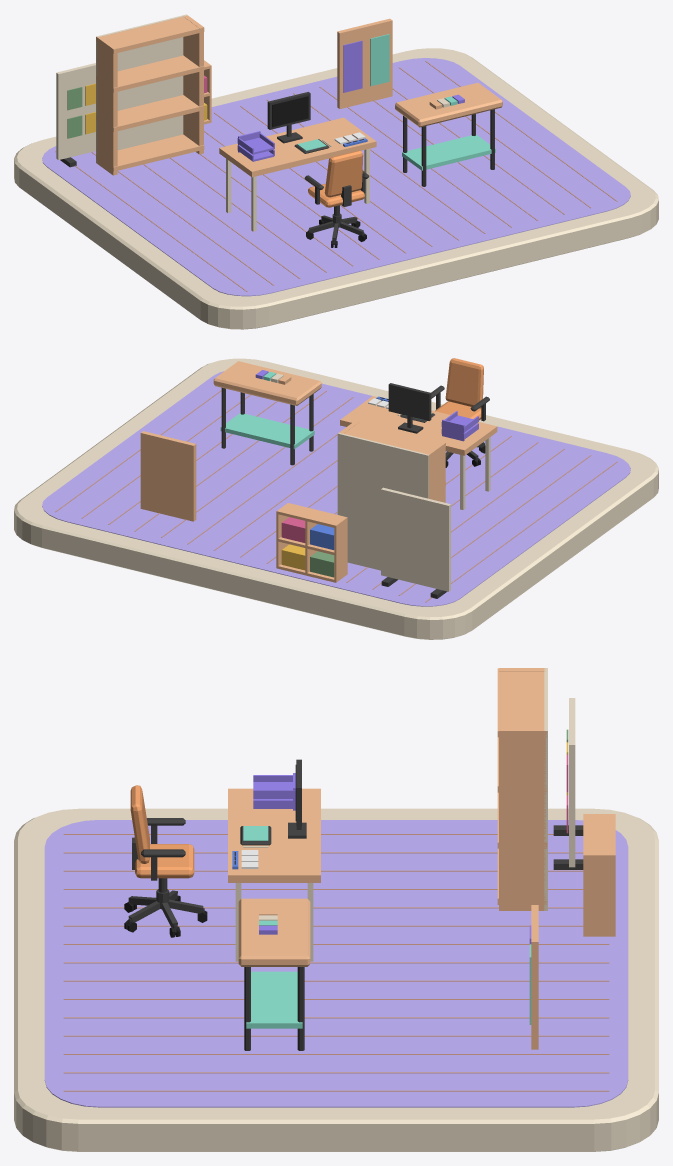
The picture shows the model from 3 angles, top to bottom: view 1: azimuth 30°, elevation 25°; view 2: azimuth 150°, elevation 25°; view 3: azimuth 270°, elevation 25°; orthographic projection. The views are drawn at different scales.
Visible parts, largest first — view 1: COM-02 Floor Surface, COM-01 Rounded Base Direct, Top, Back, COM-04_Chair_blender_direct, Design board, Side, Panel, Worktop, Side.001, Shelf.003, Lower shelf (+6 smaller); view 2: COM-02 Floor Surface, COM-01 Rounded Base Direct, Back, Panel, Design board, Top, COM-04_Chair_blender_direct, Worktop, Lower shelf, Frame, Shelf.003, Side (+6 smaller); view 3: COM-02 Floor Surface, COM-01 Rounded Base Direct, Side.001, Top, COM-04_Chair_blender_direct, Worktop, Shelf.003, Lower shelf, Cubbies divider.002, Cubbies shelf.002, Panel, Design board (+9 smaller).
Part boxes in pixels (<box>): COM-02 Floor Surface: <box>42,58,630,296</box>; COM-01 Rounded Base Direct: <box>14,48,658,329</box>; Top: <box>219,117,376,231</box>; Back: <box>96,14,187,163</box>; COM-04_Chair_blender_direct: <box>304,150,369,247</box>; Design board: <box>337,18,392,108</box>; Side: <box>96,36,117,175</box>; Panel: <box>56,63,95,159</box>; Worktop: <box>395,82,502,127</box>; Side.001: <box>183,15,203,154</box>; Shelf.003: <box>96,16,204,53</box>; Lower shelf: <box>402,134,495,170</box>; COM-02 Floor Surface: <box>42,371,630,606</box>; COM-01 Rounded Base Direct: <box>14,358,658,639</box>; Back: <box>337,432,428,570</box>; Panel: <box>381,487,450,591</box>; Design board: <box>140,431,196,521</box>; Top: <box>340,396,497,509</box>; COM-04_Chair_blender_direct: <box>431,358,489,467</box>; Worktop: <box>213,361,321,405</box>; Lower shelf: <box>220,413,314,449</box>; Frame: <box>388,383,431,433</box>; Shelf.003: <box>344,421,445,459</box>; Side: <box>425,442,445,502</box>; COM-02 Floor Surface: <box>44,820,628,1107</box>; COM-01 Rounded Base Direct: <box>14,808,658,1151</box>; Side.001: <box>499,728,545,910</box>; Top: <box>228,788,320,961</box>; COM-04_Chair_blender_direct: <box>124,785,207,937</box>; Worktop: <box>238,898,310,966</box>; Shelf.003: <box>497,668,547,737</box>; Lower shelf: <box>246,971,302,1028</box>; Cubbies divider.002: <box>583,855,615,936</box>; Cubbies shelf.002: <box>583,814,615,855</box>; Panel: <box>569,698,575,867</box>; Design board: <box>531,905,538,1049</box>.
Size of the model in its own units: 6 by 1.9 by 5.2.
Materials: 1 (1 with a texture image).
